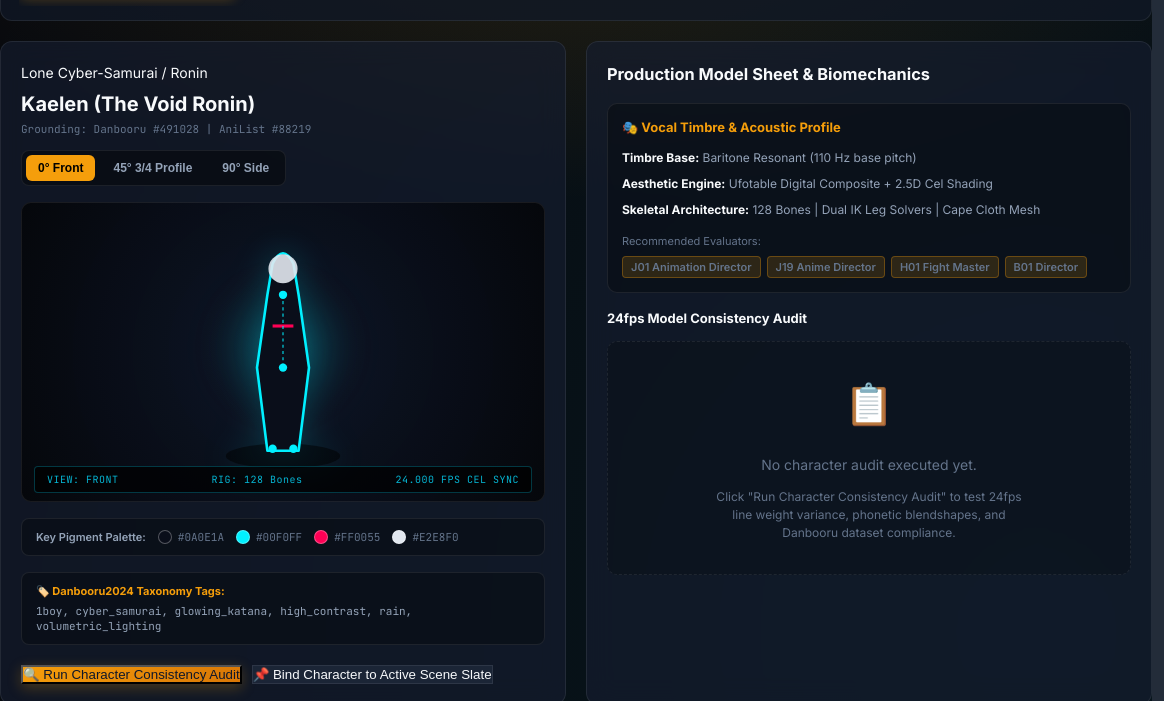
AnimationCharacterStudio Component › runs 24fps consistency audit and updates metric
The image size is (1164, 701).
(page scrolled)
Step 1. Click the button "🔍 Run Character Consistency Audit" → (131,675), box left=21, top=666, right=242, bottom=684
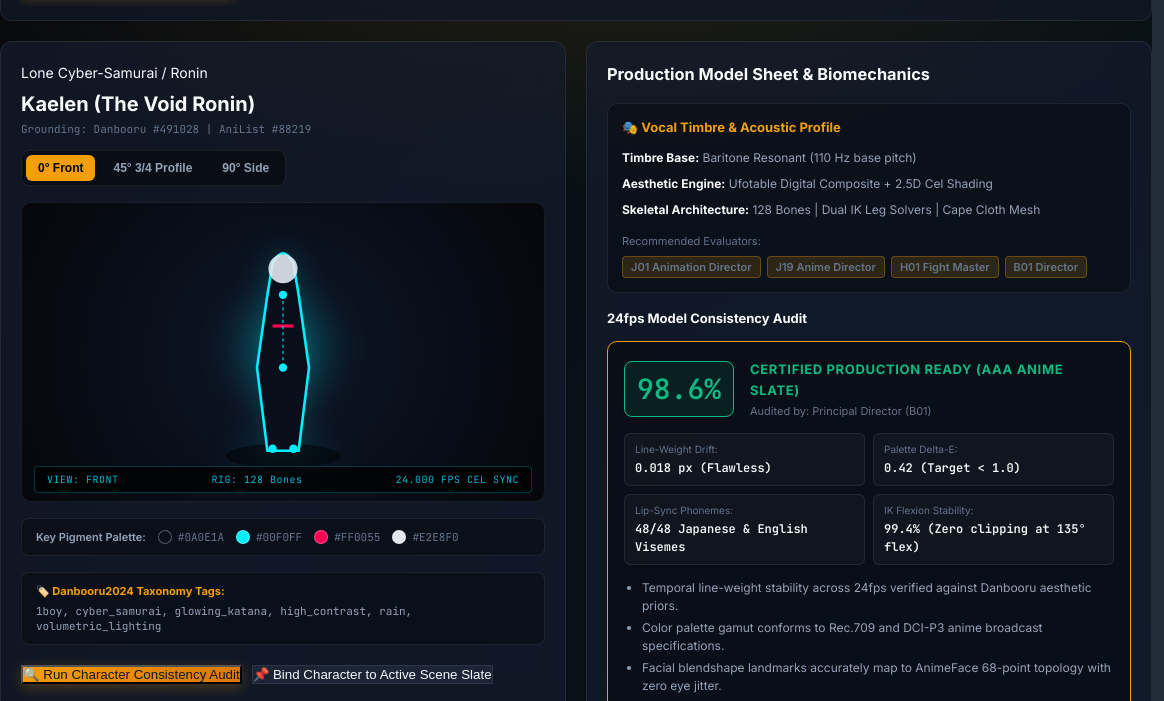
expect the text "Audited by: Principal Director (B01)" is shown: met, box left=750, top=404, right=932, bottom=418
